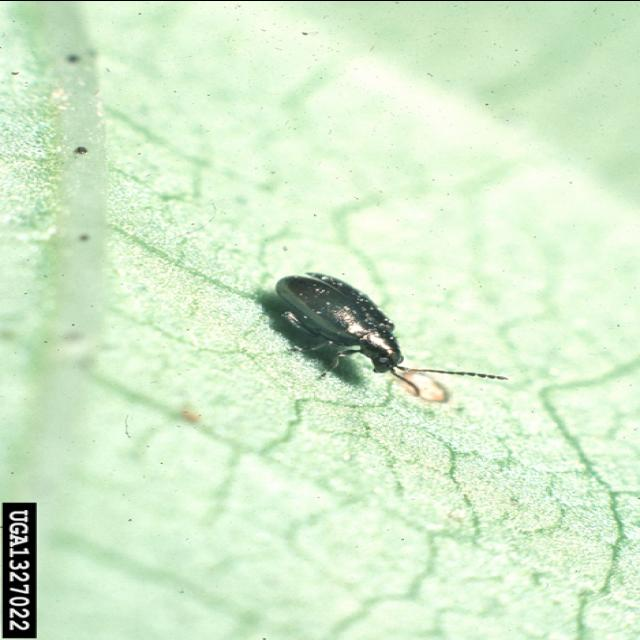flea_beetle: (261, 262, 539, 402)
